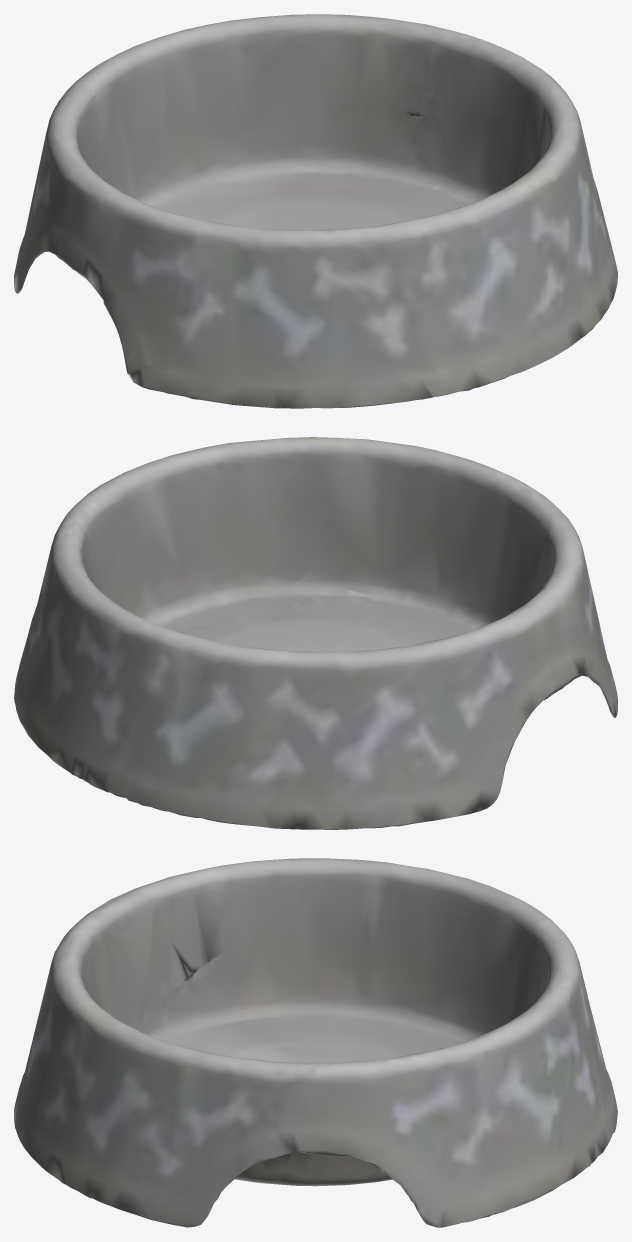
The model's file is Grreatv_Choice_Dog_Bowl_Gray_Bones_Plastic_20_fl_oz_total-high.glb.
3 views of the same model, one above another, from view 1: azimuth 30°, elevation 25°; view 2: azimuth 150°, elevation 25°; view 3: azimuth 270°, elevation 25° (orthographic).
Visible parts, largest first — view 1: Grreatv_Choice_Dog_Bowl_Gray_Bones_Plastic_20_fl_oz_total; view 2: Grreatv_Choice_Dog_Bowl_Gray_Bones_Plastic_20_fl_oz_total; view 3: Grreatv_Choice_Dog_Bowl_Gray_Bones_Plastic_20_fl_oz_total.
Part boxes in pixels (left/top/right/bottom): Grreatv_Choice_Dog_Bowl_Gray_Bones_Plastic_20_fl_oz_total: left=14, top=14, right=617, bottom=408; Grreatv_Choice_Dog_Bowl_Gray_Bones_Plastic_20_fl_oz_total: left=14, top=437, right=617, bottom=829; Grreatv_Choice_Dog_Bowl_Gray_Bones_Plastic_20_fl_oz_total: left=14, top=858, right=617, bottom=1227.
Bounding box in the file's own units: 0.1708 × 0.0538 × 0.1835.
Materials: 1 (1 with a texture image).
